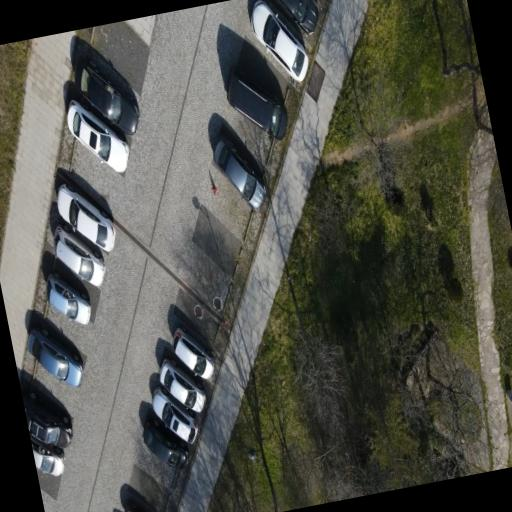car: (75, 60, 139, 134), (251, 0, 308, 81), (67, 99, 129, 171), (227, 68, 287, 139), (213, 134, 266, 209), (57, 183, 115, 250), (28, 328, 83, 386), (54, 224, 105, 285), (23, 392, 73, 447), (152, 386, 197, 442), (160, 358, 206, 412), (143, 419, 189, 468), (47, 272, 91, 323), (173, 326, 214, 378), (30, 435, 65, 475), (277, 0, 319, 33), (125, 501, 143, 511)
